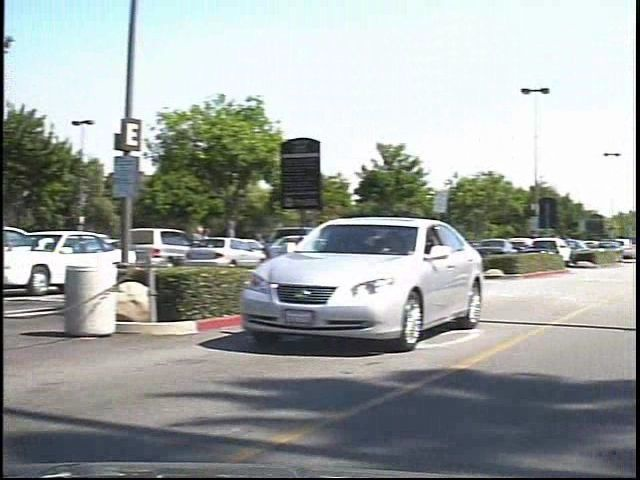person: (197, 219, 225, 269)
